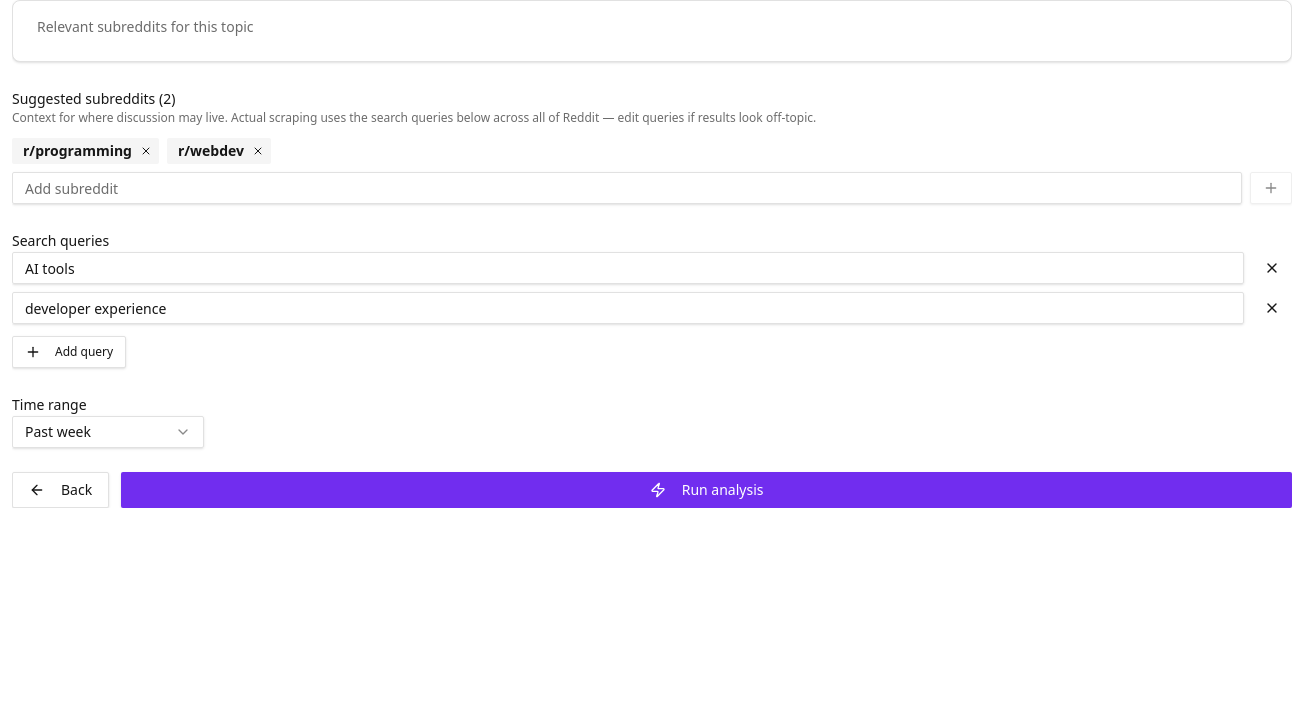
Test: PlanReview › can remove a subreddit
Click the button named "Remove r/programming".
click(146, 151)  # box [138,143,154,159]
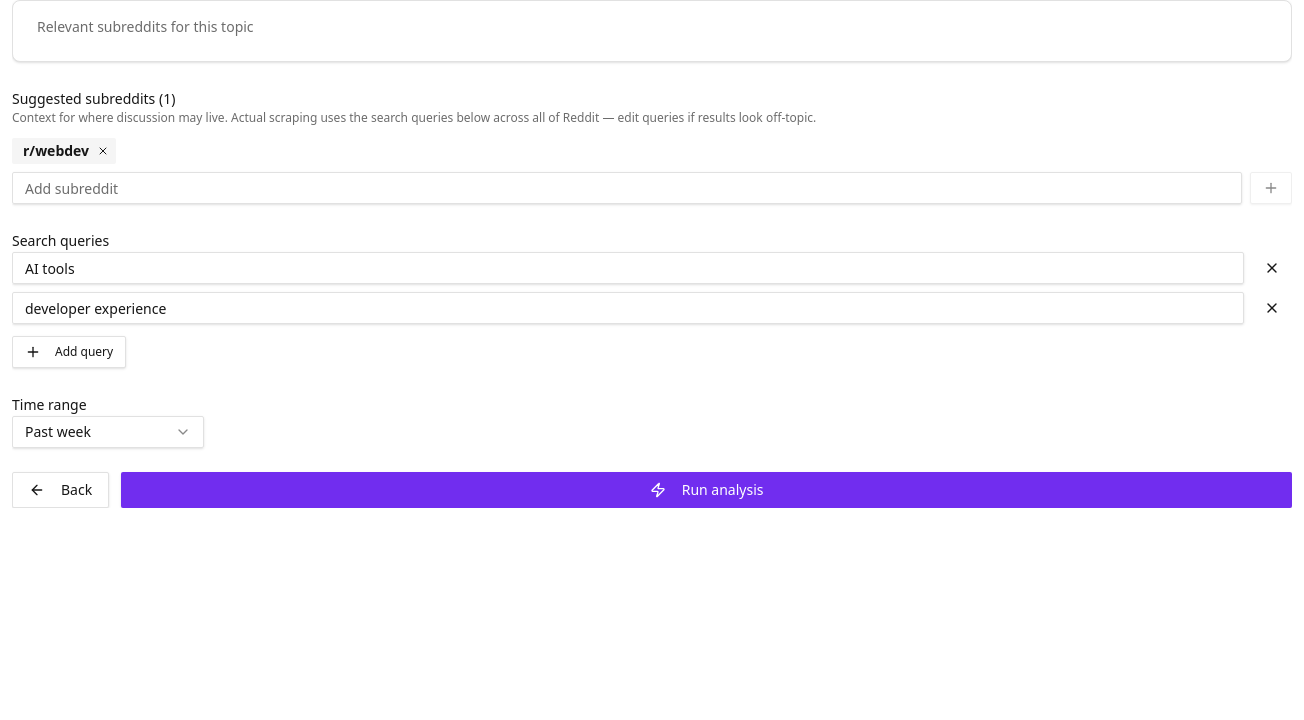
Expected: the text "r/programming" is gone
